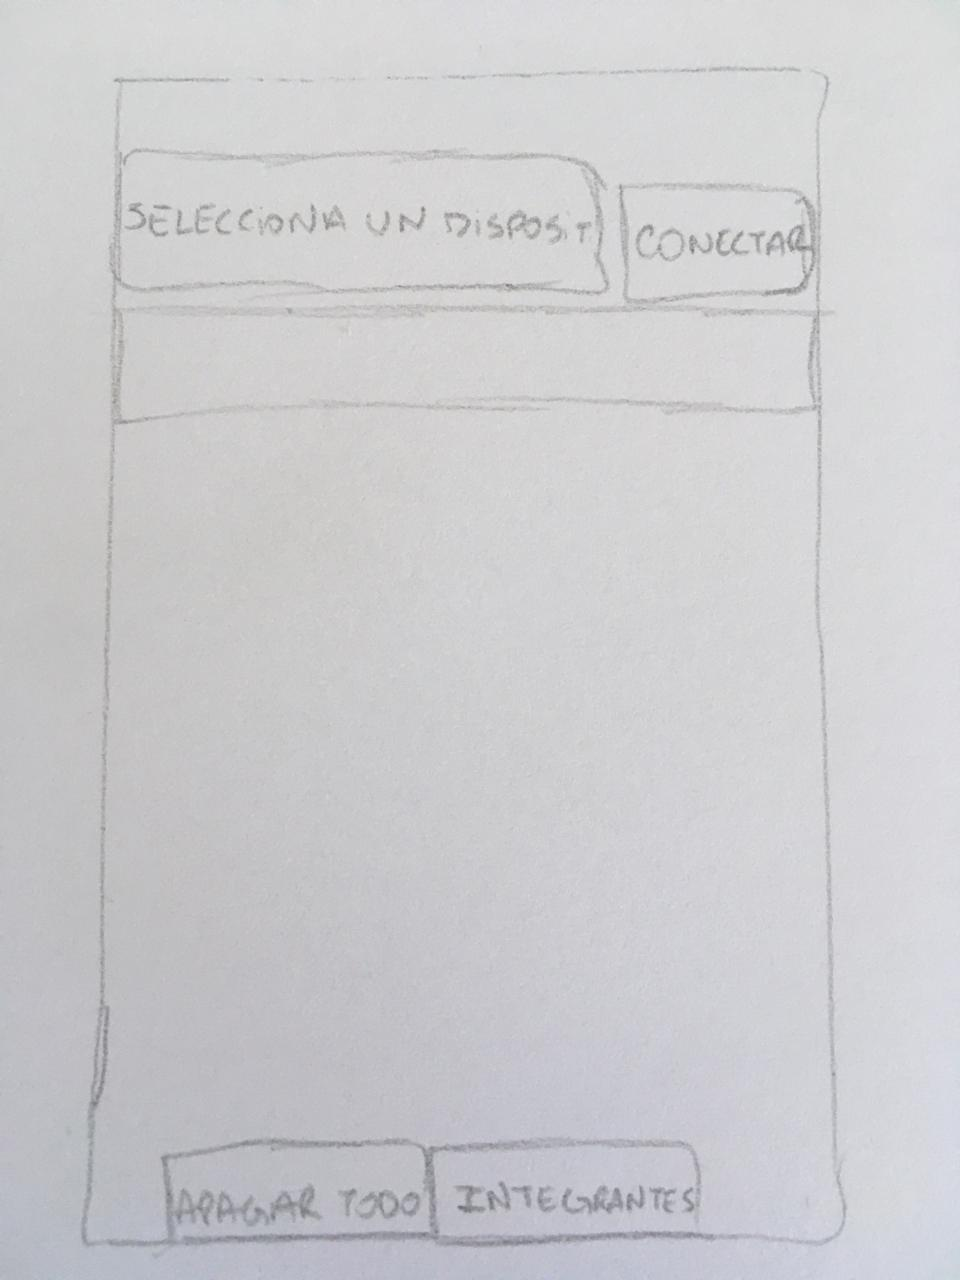Button: (115, 149, 607, 294), (160, 1138, 434, 1246), (430, 1141, 701, 1242), (619, 181, 815, 300)
Screen: (82, 67, 848, 1245)
TextBox: (110, 305, 816, 424)
